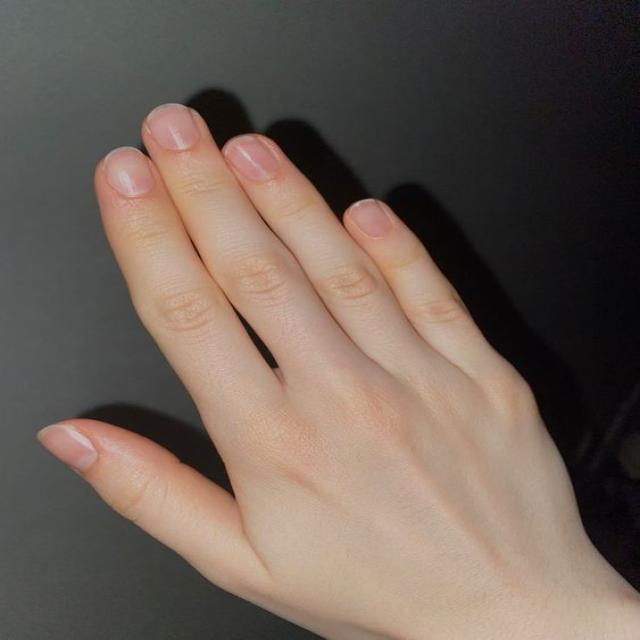Fingernail: (36, 425, 98, 473), (147, 103, 200, 152), (105, 147, 156, 197), (224, 135, 278, 182), (350, 198, 392, 238)
